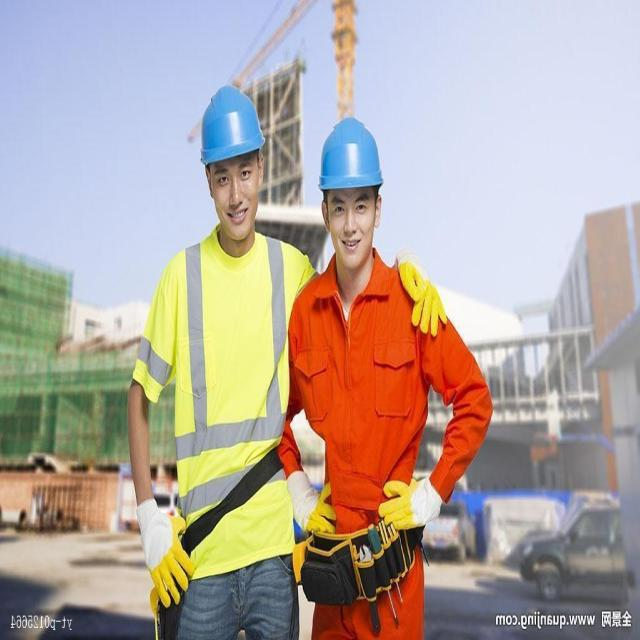helmet: (315, 118, 387, 202), (193, 80, 264, 158)
